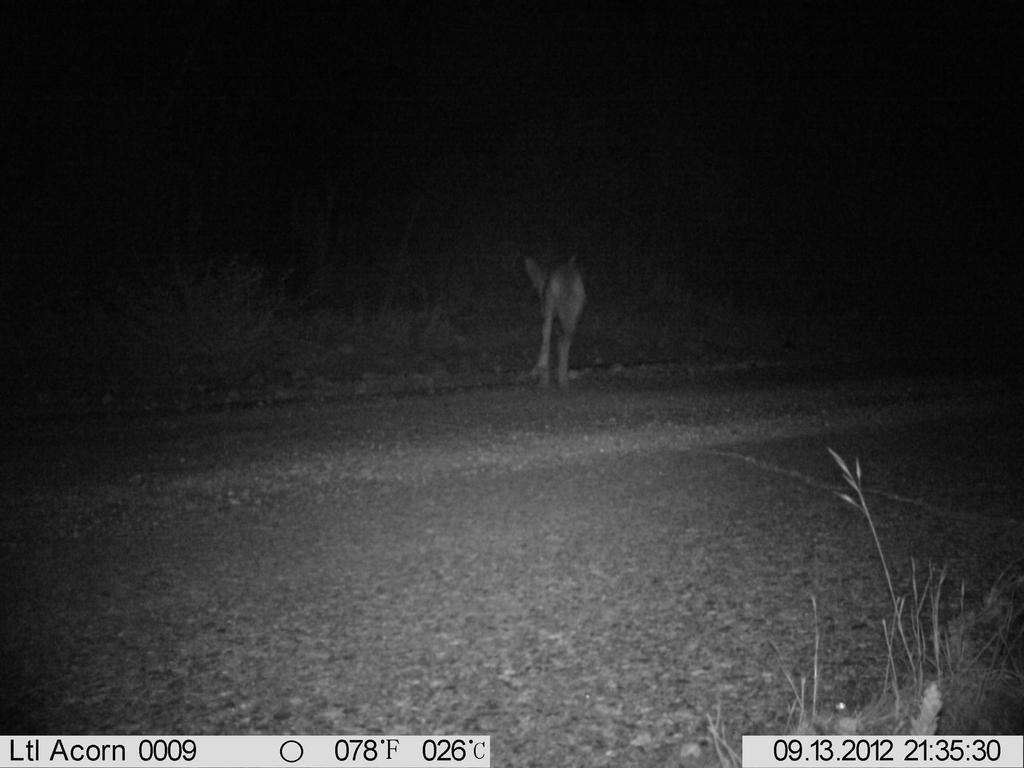coyote: (488, 239, 597, 399)
